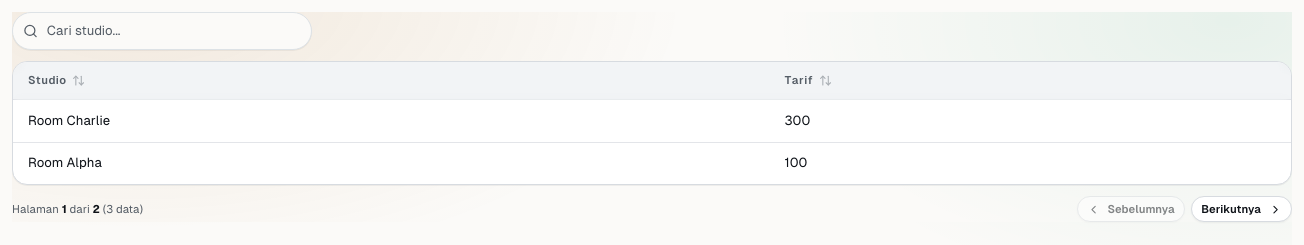
Scenario: UI Foundation 2026 Architecture & Components › supports sorting, global filtering, pagination, and empty state in DataTable (TanStack Table v9)
Expected: the text "Room Charlie" is shown, left=13, top=100, right=770, bottom=142
Expected: the text "Room Bravo" is not shown
Click the button with aria-label "Halaman berikutnya".
click(1241, 209)  # box left=1191, top=196, right=1292, bottom=222
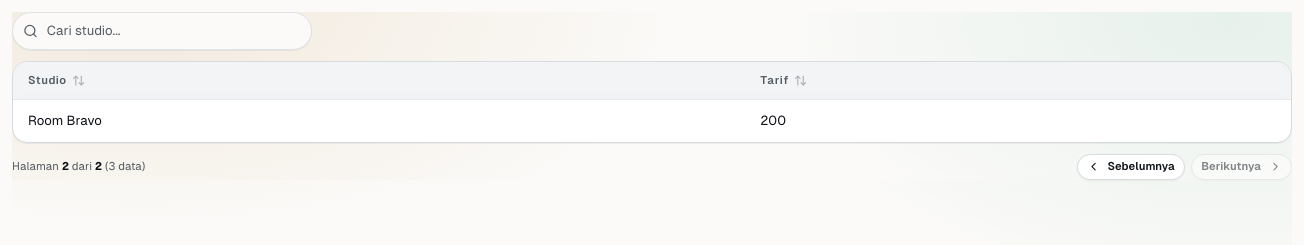
Result: the text "Room Bravo" is shown at left=13, top=100, right=745, bottom=142
Click the button with aria-label "Halaman sebelumnya".
click(1131, 167)  # box left=1076, top=154, right=1185, bottom=180
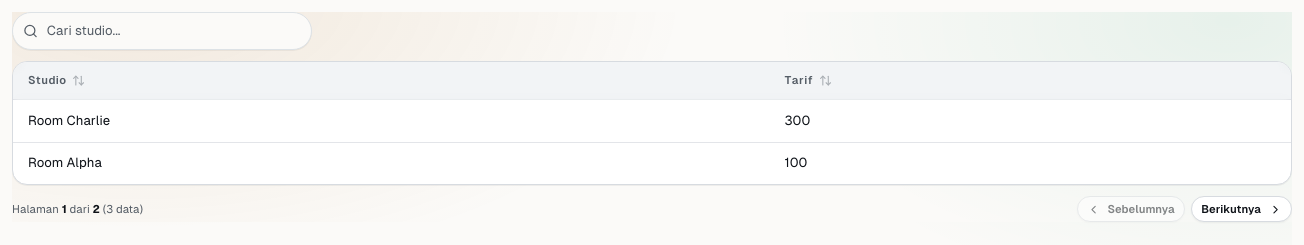
Click the button "Studio".
click(57, 80)  # box left=28, top=73, right=85, bottom=88
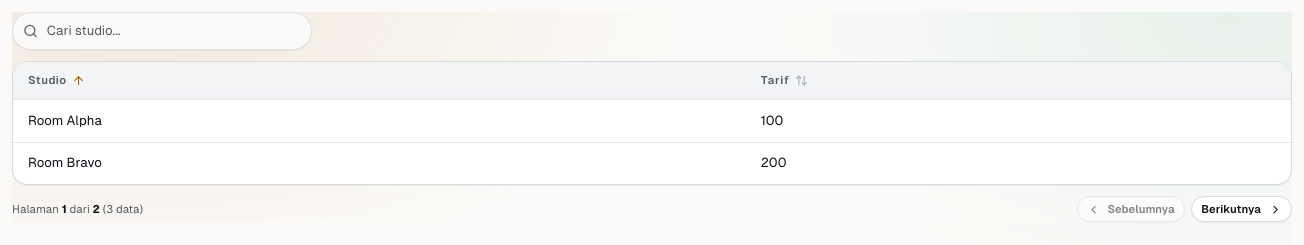
Result: the text "Room Alpha" is shown at left=13, top=100, right=746, bottom=142
Type "Bravo" into the field with placeholder "Cari studio...".
click(162, 31); type("Bravo")  # box left=12, top=12, right=312, bottom=50
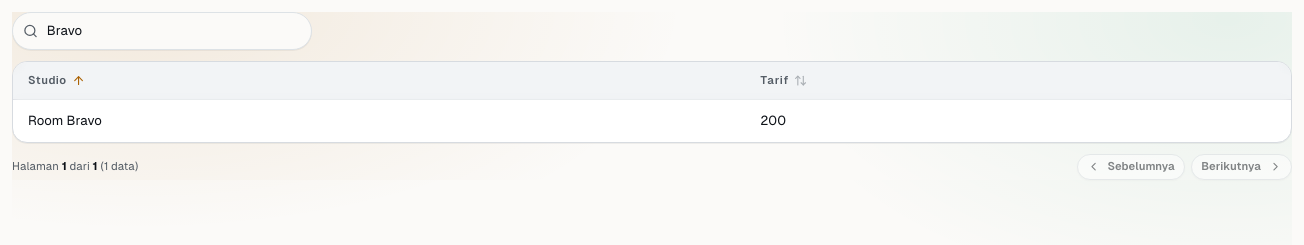
Result: the text "Room Bravo" is shown at left=13, top=100, right=745, bottom=142
Result: the text "Room Alpha" is gone
Replace the text in the field with placeholder "Cari studio..." with "TidakAdaRoom" at (162, 31), box left=12, top=12, right=312, bottom=50
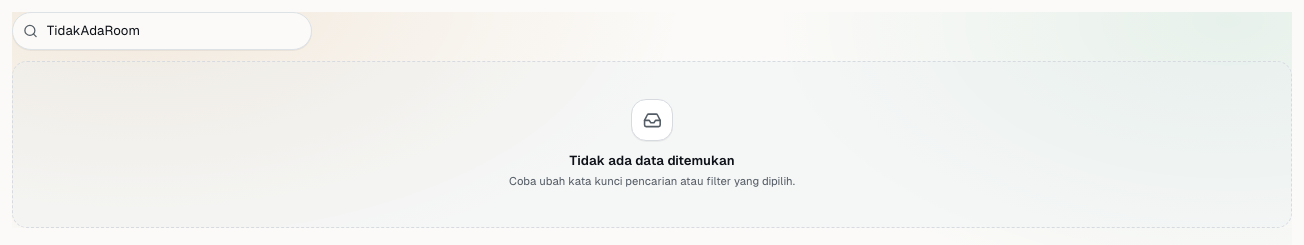
Result: the heading "Tidak ada data ditemukan" is shown at left=569, top=153, right=735, bottom=168
